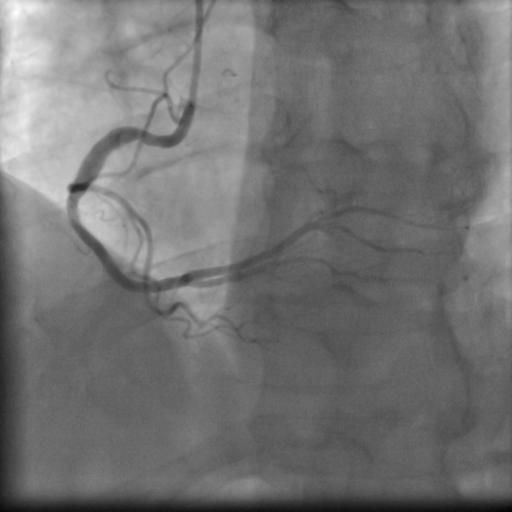Stenosis: (65, 197, 82, 220)
